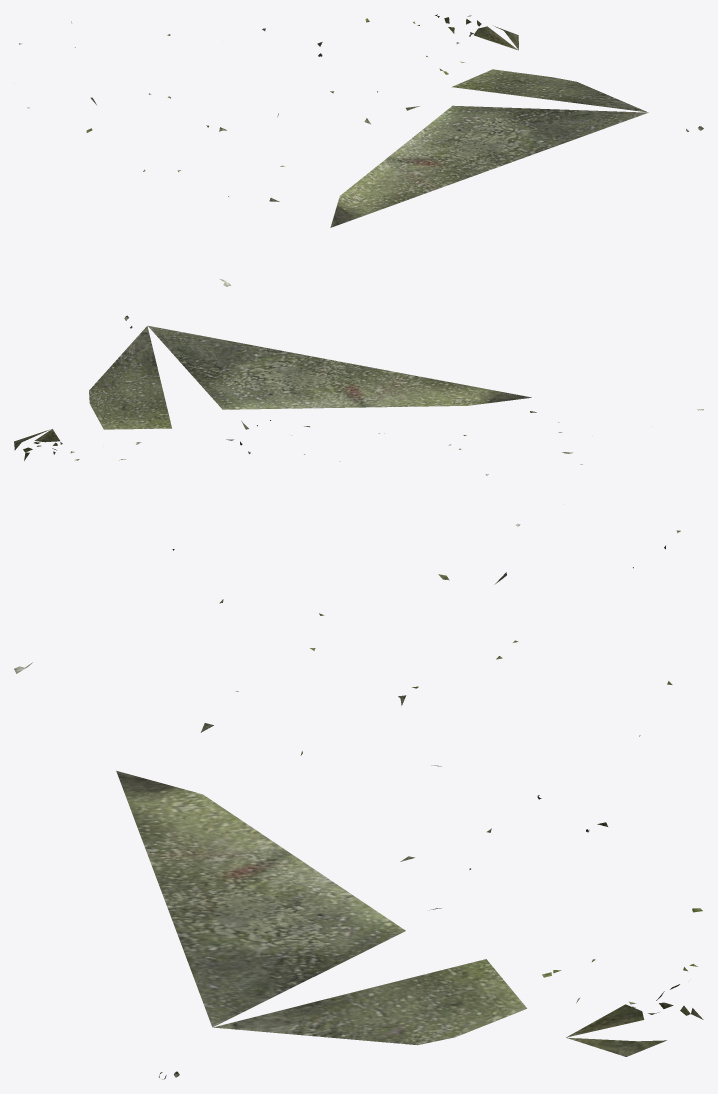
3 views of the same model, one above another, from view 1: azimuth 30°, elevation 25°; view 2: azimuth 150°, elevation 25°; view 3: azimuth 270°, elevation 25° (orthographic). The views are drawn at different scales.
Size of the model in its own units: 39 by 7.26 by 25.75.
Materials: 1 (1 with a texture image).
